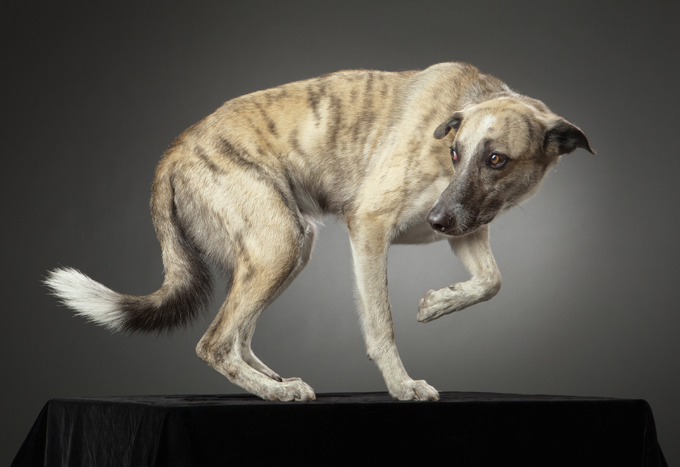tail: (46, 231, 218, 353)
